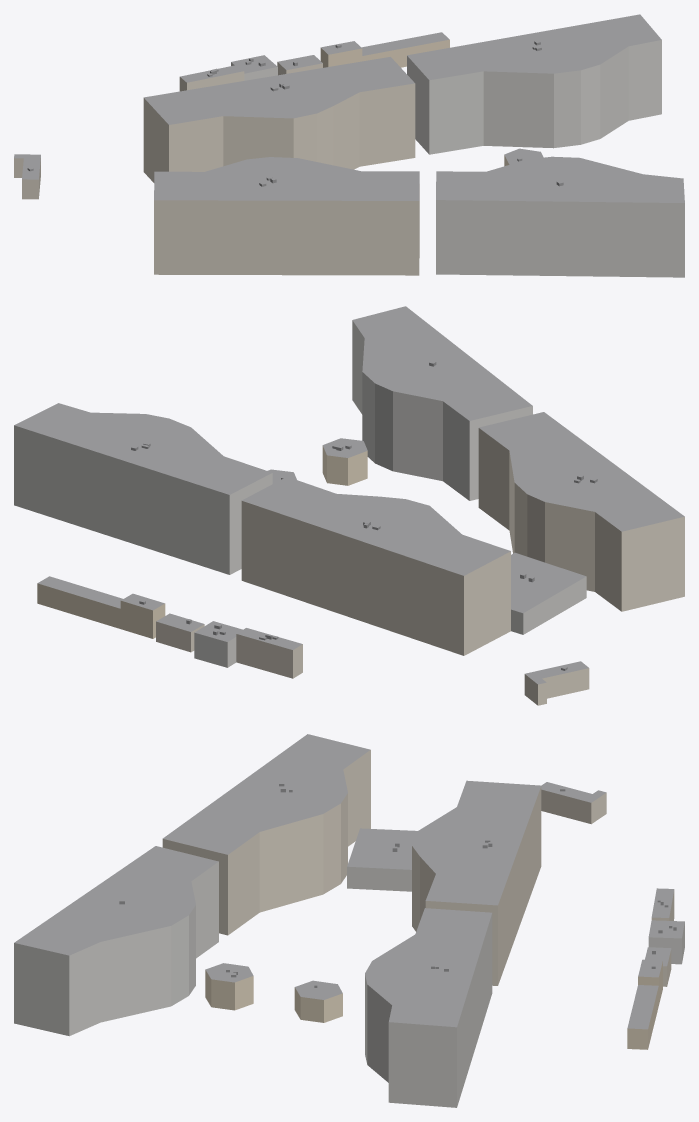
The model's file is building_-1_-2.glb.
The picture shows the model from 3 angles, top to bottom: view 1: azimuth 30°, elevation 25°; view 2: azimuth 150°, elevation 25°; view 3: azimuth 270°, elevation 25°; orthographic projection. The views are drawn at different scales.
Visible parts, largest first — view 1: roof, concrete_light, concrete_warm, sandstone; view 2: roof, concrete_warm, concrete_light, sandstone; view 3: roof, concrete_light, concrete_warm, sandstone.
Boxes of the visible parts, x1,y1,x2,y2 form: roof: [14, 14, 684, 202]; concrete_light: [231, 40, 684, 277]; concrete_warm: [14, 62, 419, 275]; sandstone: [320, 39, 509, 166]; roof: [14, 306, 684, 684]; concrete_warm: [156, 428, 684, 705]; concrete_light: [14, 320, 586, 667]; sandstone: [37, 446, 367, 638]; roof: [14, 734, 684, 1029]; concrete_light: [14, 861, 684, 1107]; concrete_warm: [162, 750, 674, 986]; sandstone: [205, 961, 662, 1049].
Bounding box in the file's own units: 311 × 40.01 × 290.
